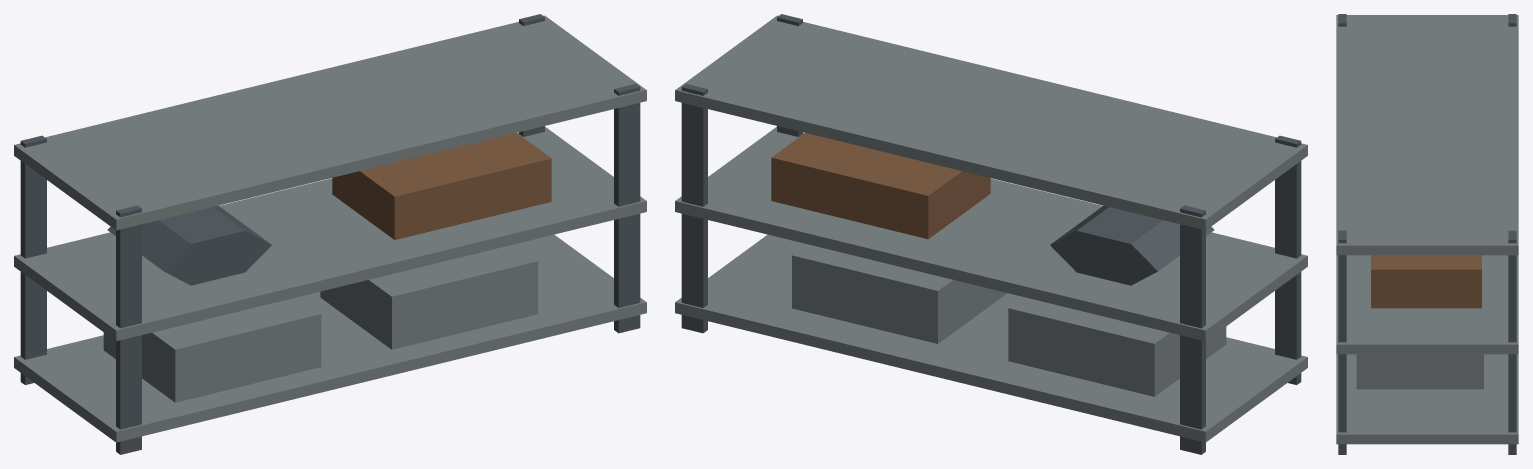
Rendered from parts_rack.glb.
The picture shows the model from 3 angles, left to right: view 1: azimuth 30°, elevation 25°; view 2: azimuth 150°, elevation 25°; view 3: azimuth 270°, elevation 25°; orthographic projection. The views are drawn at different scales.
Parts seen in each view (by area): view 1: parts_rack; view 2: parts_rack; view 3: parts_rack.
Boxes of the visible parts, bbox=[...] form: parts_rack: bbox=[14, 14, 646, 454]; parts_rack: bbox=[675, 14, 1307, 454]; parts_rack: bbox=[1336, 14, 1518, 454].
Bounding box in the file's own units: 2.88 × 1.25 × 0.96.
